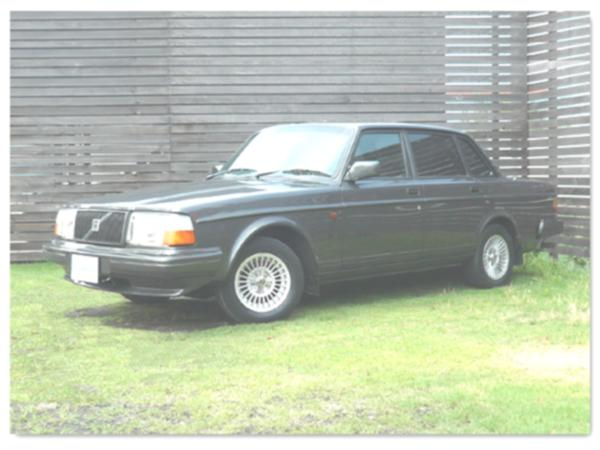volvo: (84, 211, 109, 239)
